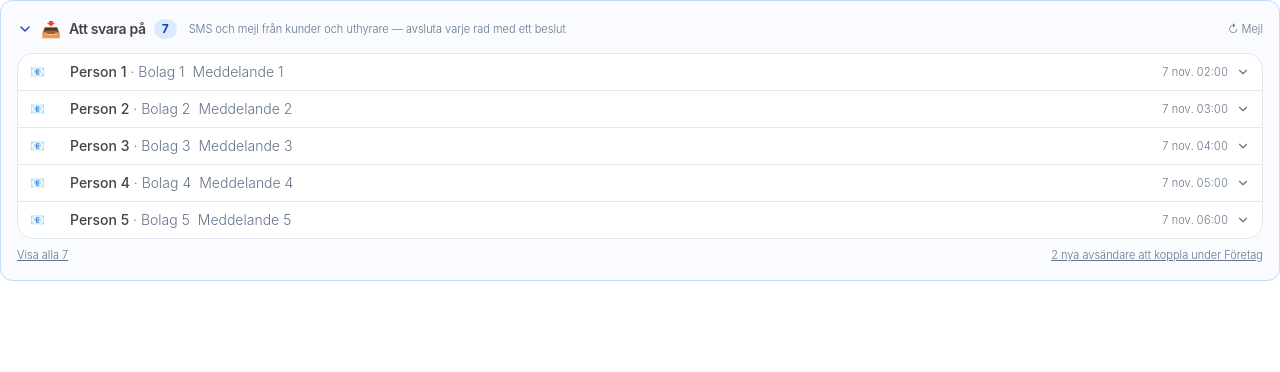
Test: Att svara på › shows one compact row per person, five at a time
Expected: the text "Person 1" is shown 5 times, 70,63 -> 126,80; 70,100 -> 129,117; 70,137 -> 130,154; 70,174 -> 130,191; 70,211 -> 129,228
Click the button "Visa alla 7": coordinates (43, 255) 17,247 -> 68,264
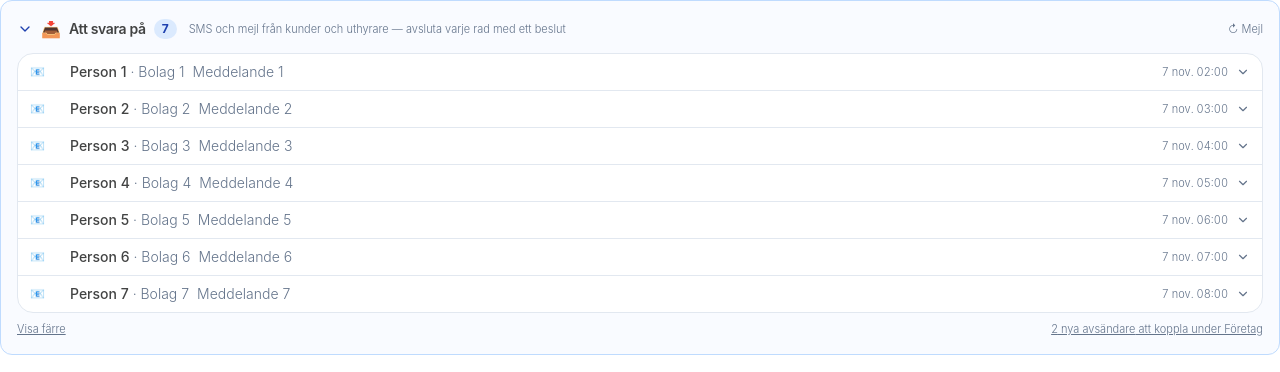
Now the text "Person 1" is shown 7 times
